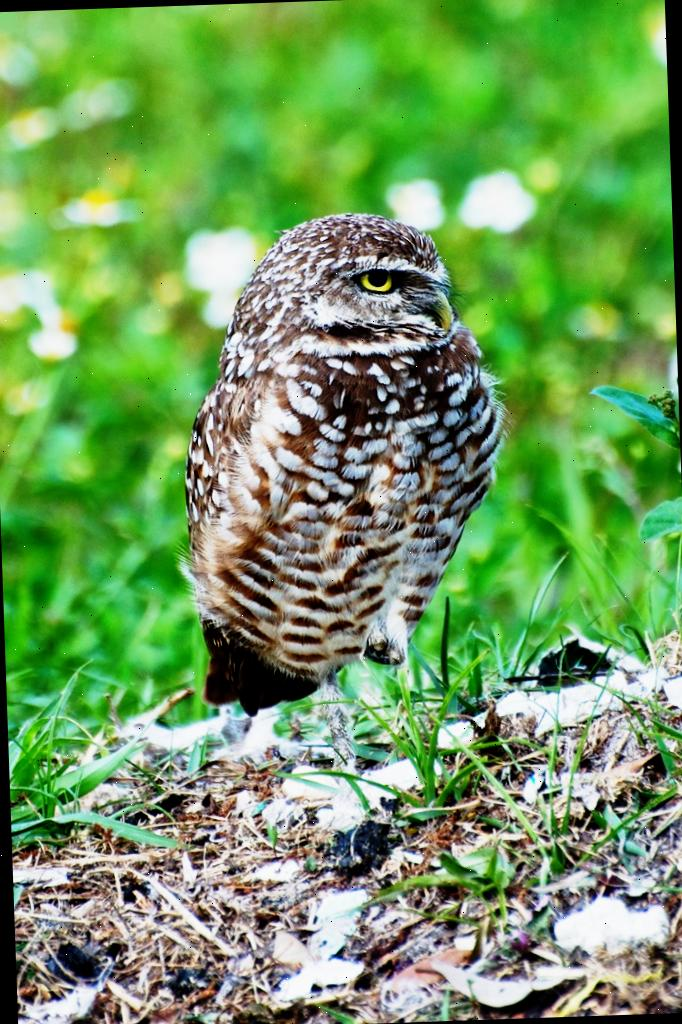Owl: (166, 206, 522, 830)
